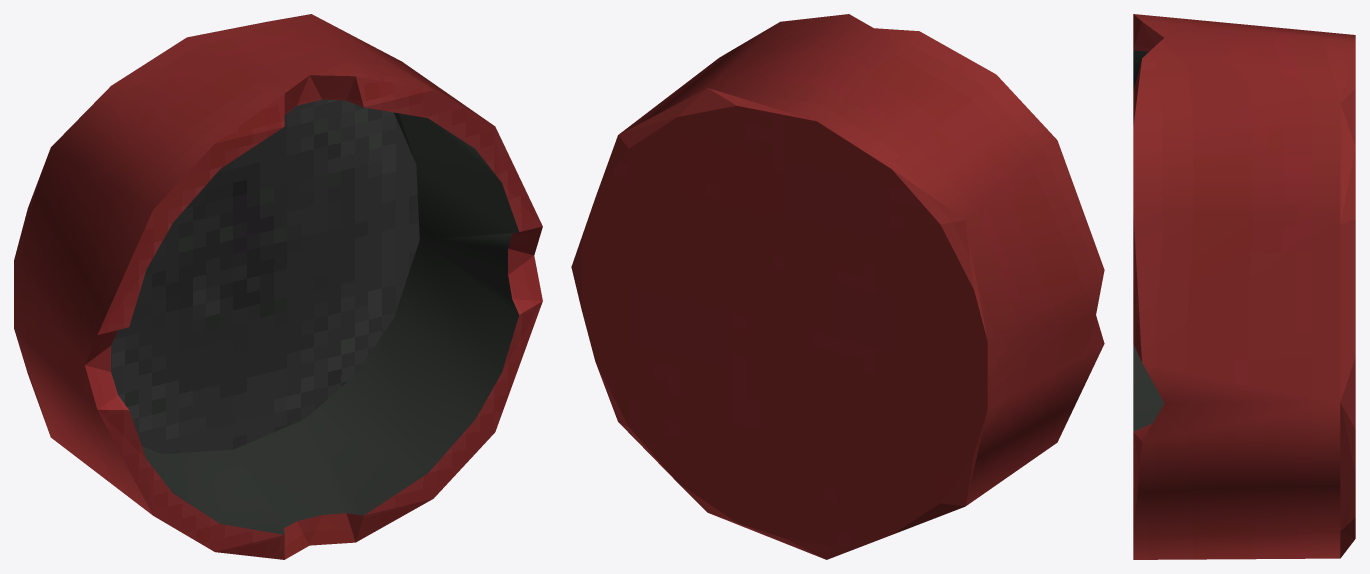
Rendered from nt_2020_ashtray_01_LOD2.obj.
The picture shows the model from 3 angles, left to right: view 1: azimuth 30°, elevation 25°; view 2: azimuth 150°, elevation 25°; view 3: azimuth 270°, elevation 25°; orthographic projection. The views are drawn at different scales.
Visible parts, largest first — view 1: mtl_nt_2020_ashtray_01, mtl_nt_2020_ashtray_02; view 2: mtl_nt_2020_ashtray_02; view 3: mtl_nt_2020_ashtray_02, mtl_nt_2020_ashtray_01.
Part boxes in pixels (x1,y1,x2,y2): mtl_nt_2020_ashtray_01: (111, 99, 518, 534); mtl_nt_2020_ashtray_02: (14, 14, 542, 559); mtl_nt_2020_ashtray_02: (571, 14, 1104, 559); mtl_nt_2020_ashtray_02: (1133, 14, 1355, 559); mtl_nt_2020_ashtray_01: (1133, 50, 1164, 431).
Bounding box in the file's own units: 11.49 × 11.49 × 4.64.
